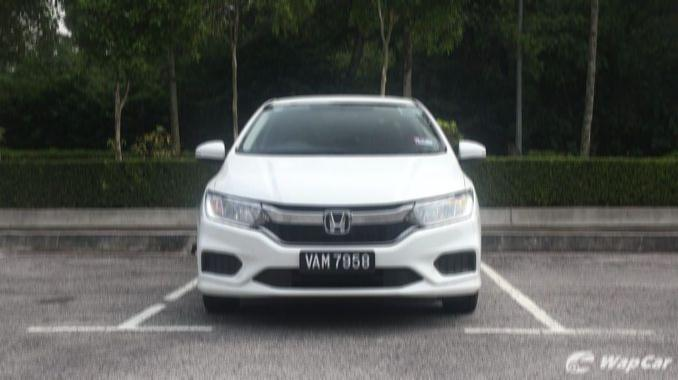Car hood: (209, 149, 468, 208)
Front bumper: (196, 214, 484, 302)
Headlight - -L-: (404, 186, 479, 234)
Headlight - -R-: (199, 186, 268, 236)
Side mirror - -L-: (452, 133, 492, 165)
Side mirror - -R-: (187, 134, 234, 169)
